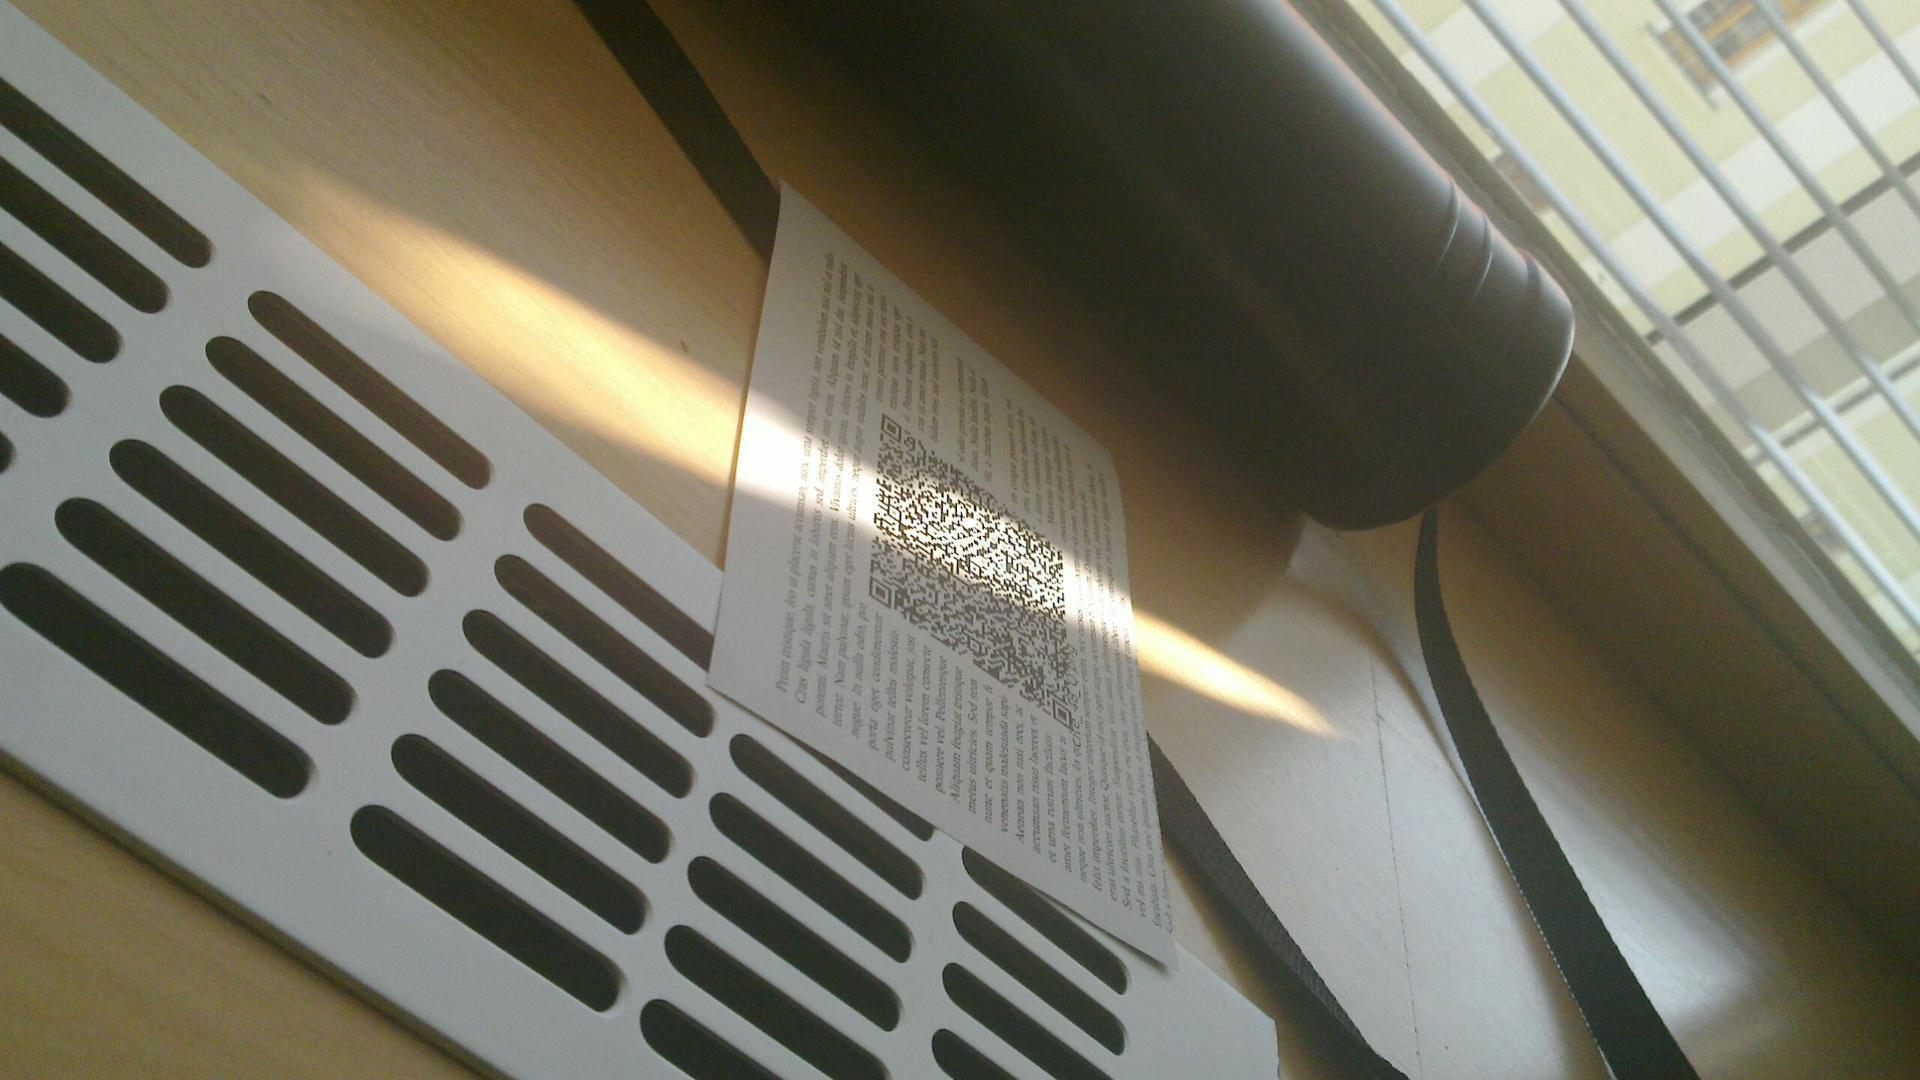qr_code: (868, 414, 1072, 732)
